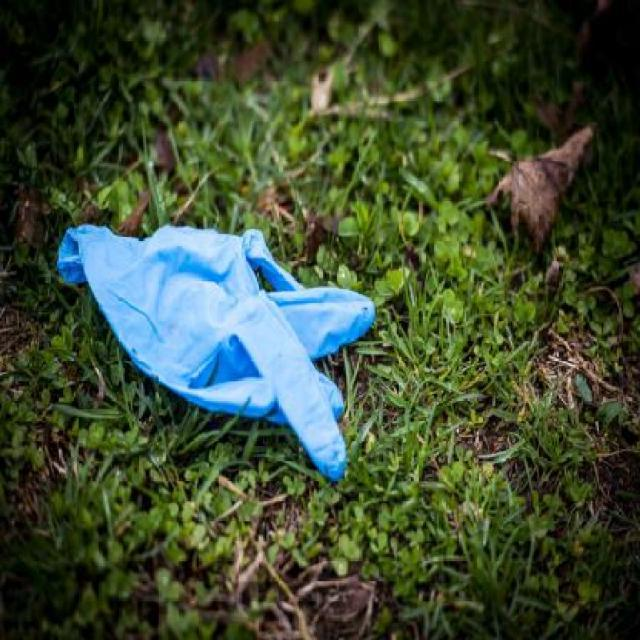gloved_hand: (52, 219, 386, 487)
